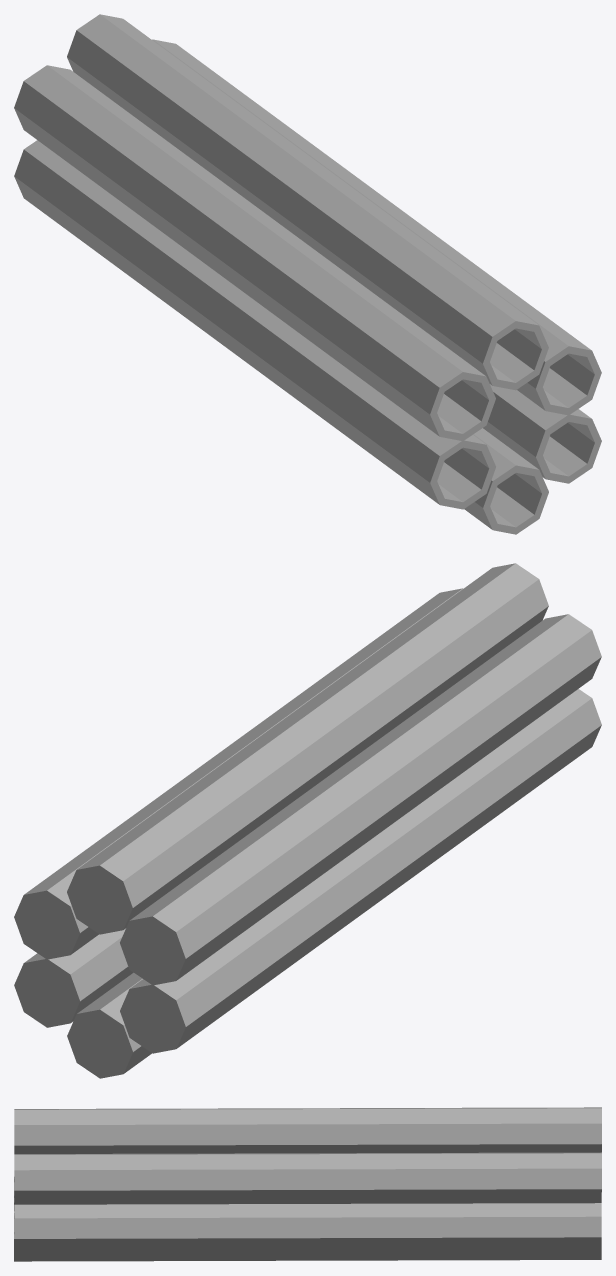
File: minigun-barrel.obj
3 views of the same model, one above another, from view 1: azimuth 30°, elevation 25°; view 2: azimuth 150°, elevation 25°; view 3: azimuth 270°, elevation 25° (orthographic). The views are drawn at different scales.
Bounding box in the file's own units: 1.17 × 1.41 × 4.92.
